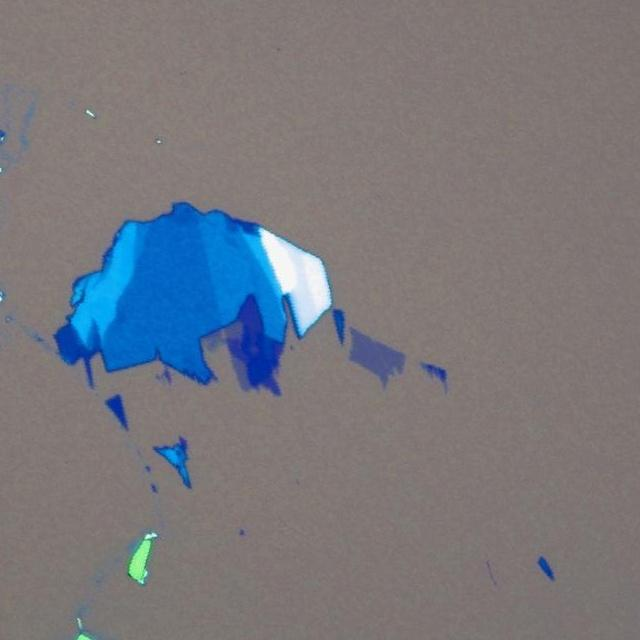monolayer-eWW4: (350, 326, 408, 386), (232, 355, 250, 393), (225, 322, 242, 339)
